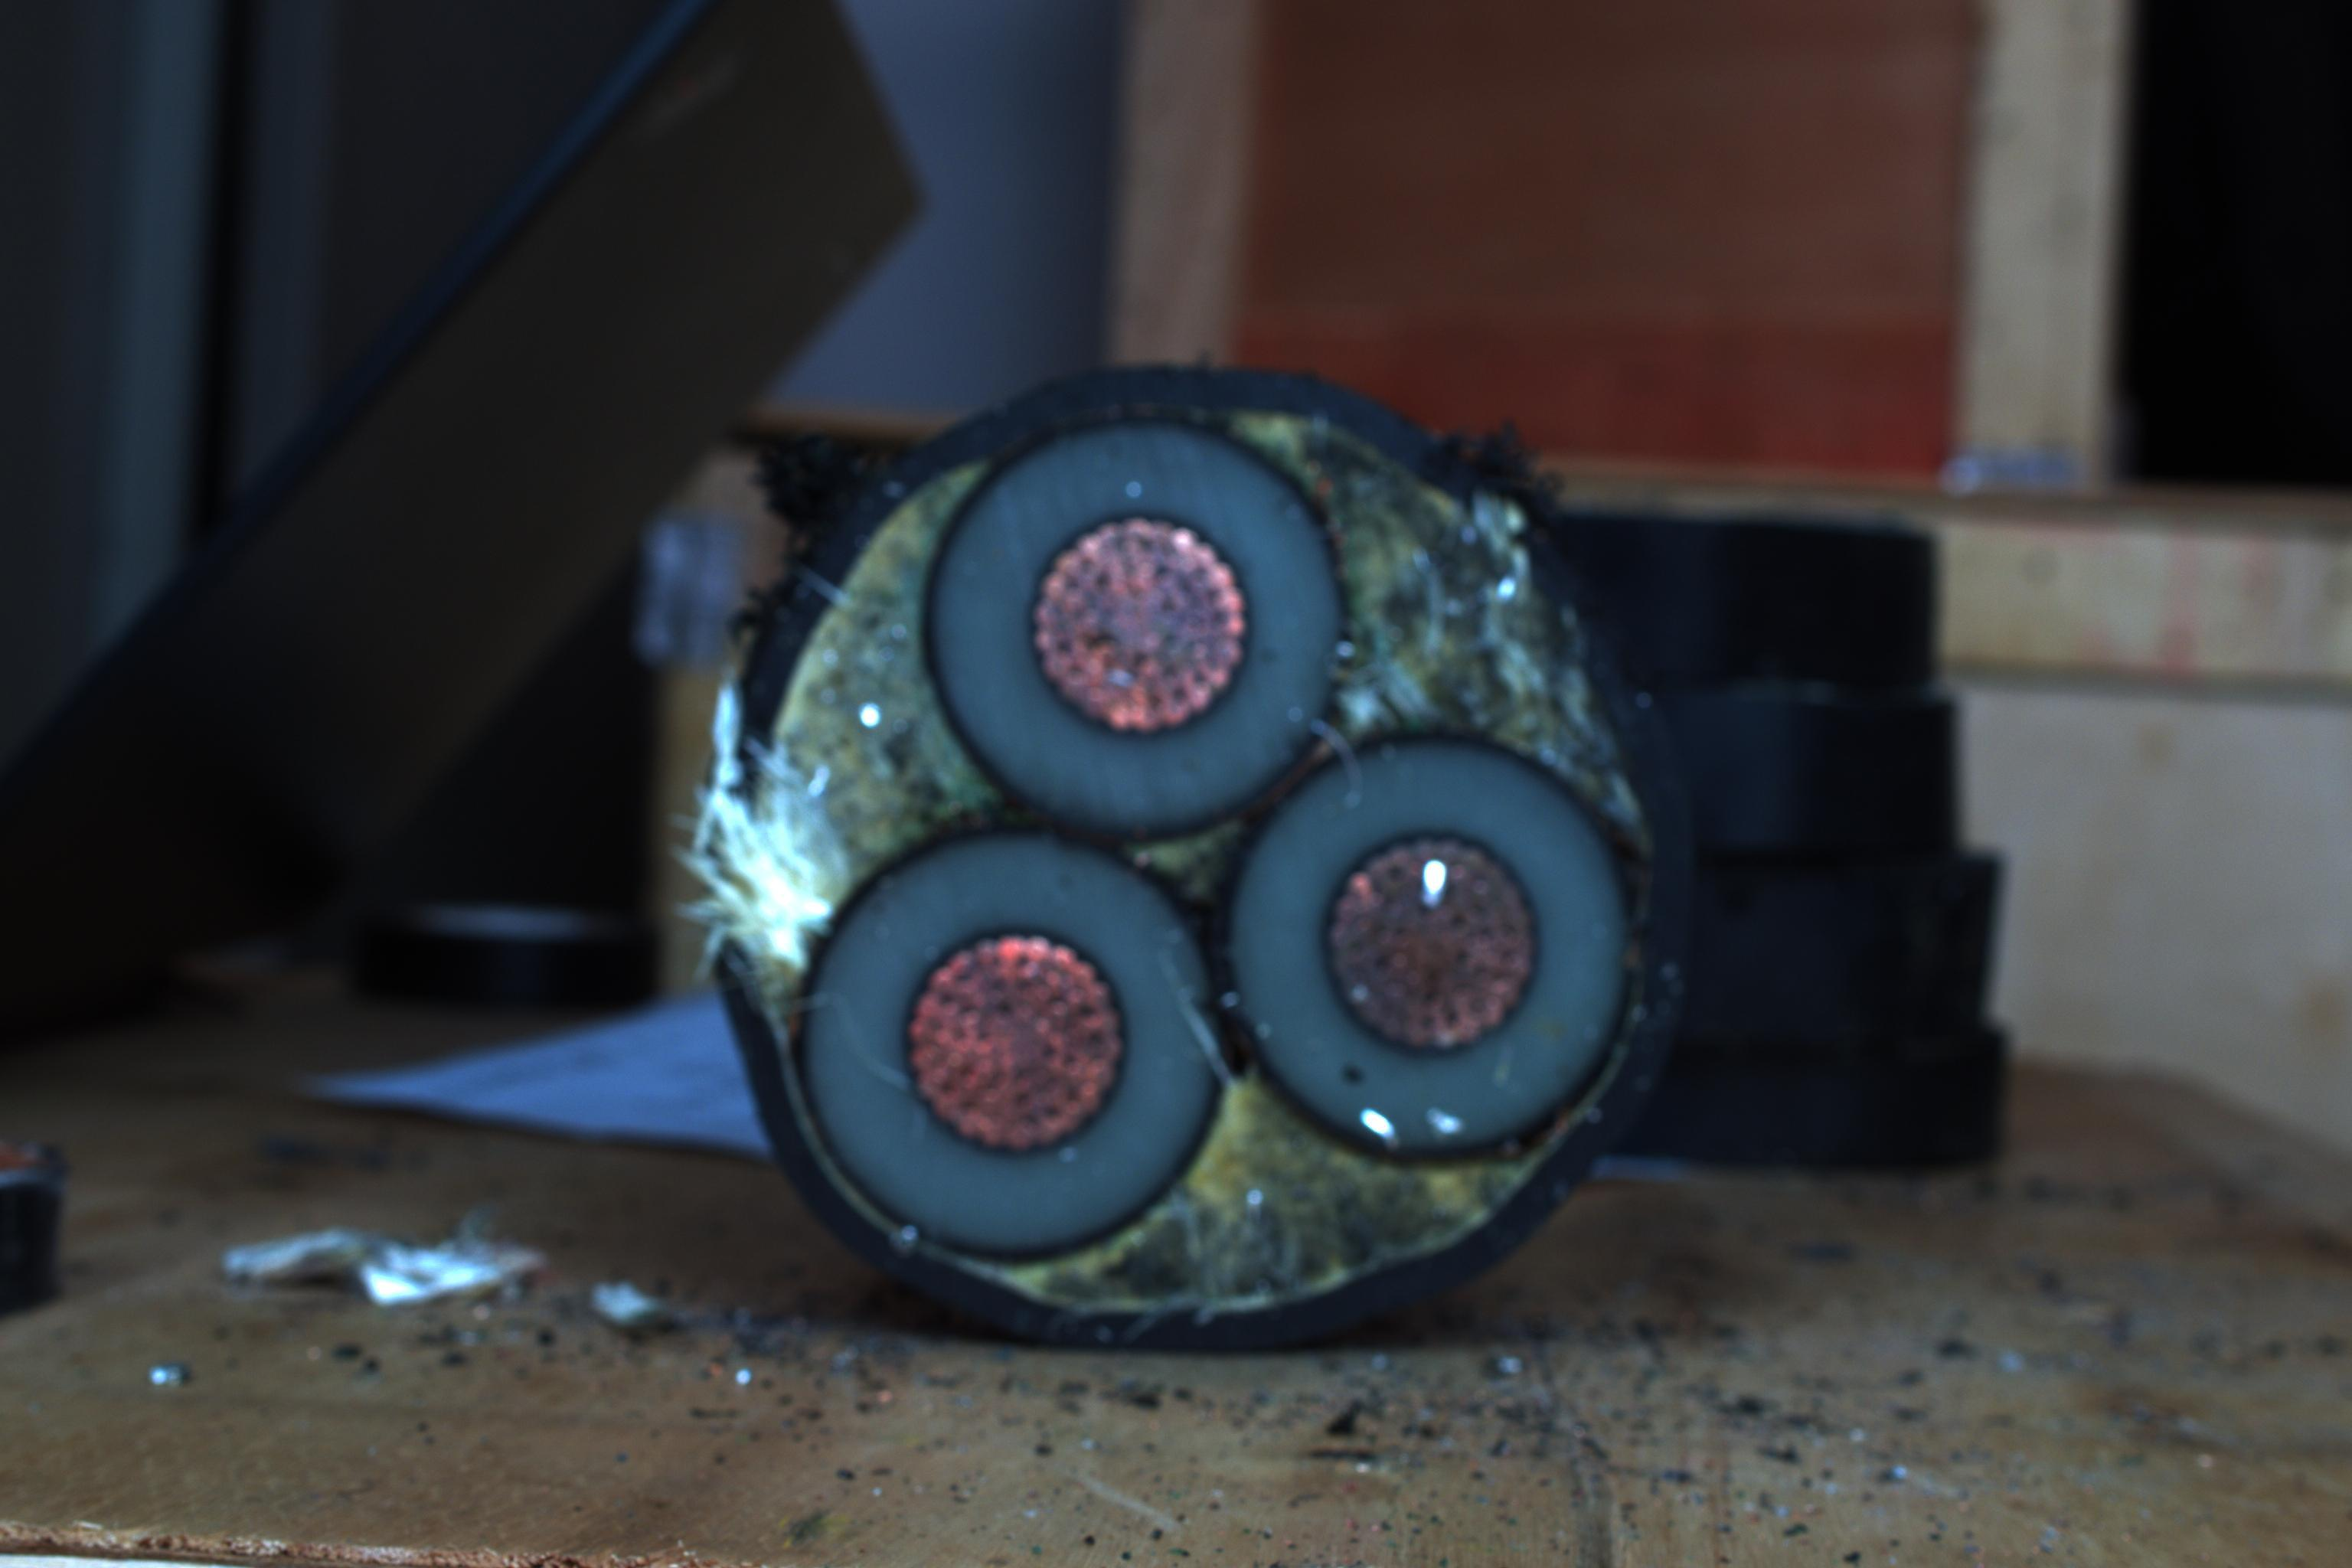ZA_YJV_26_35kV_3x400: (723, 392, 1685, 1326)
